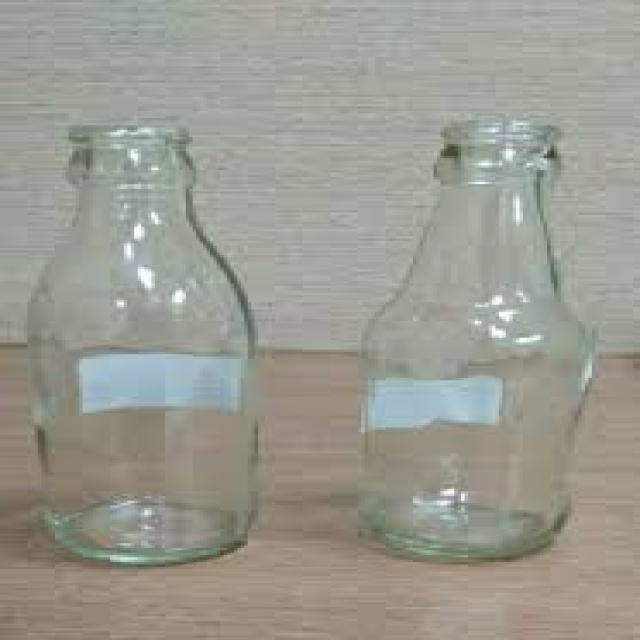Glass: (353, 118, 598, 561), (24, 120, 264, 566)
